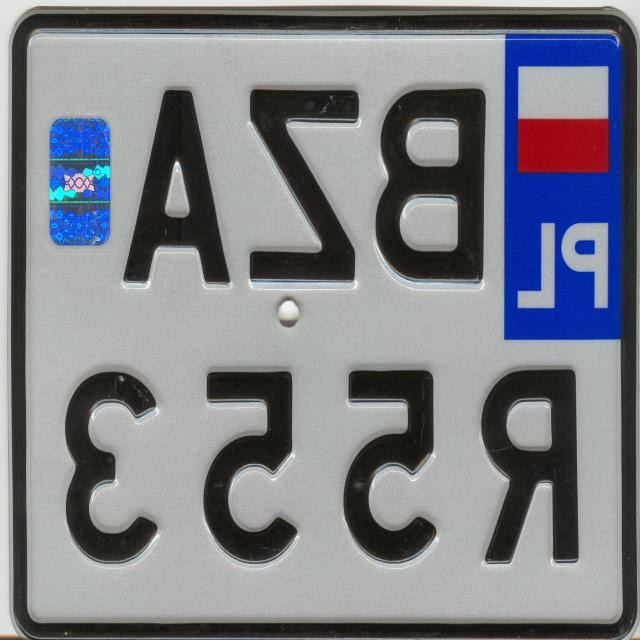pl_license_plate: (21, 23, 630, 631)
